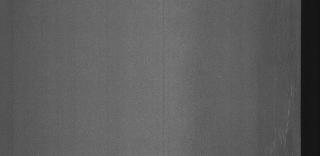silk spot: (282, 62, 298, 120), (270, 122, 294, 154)
